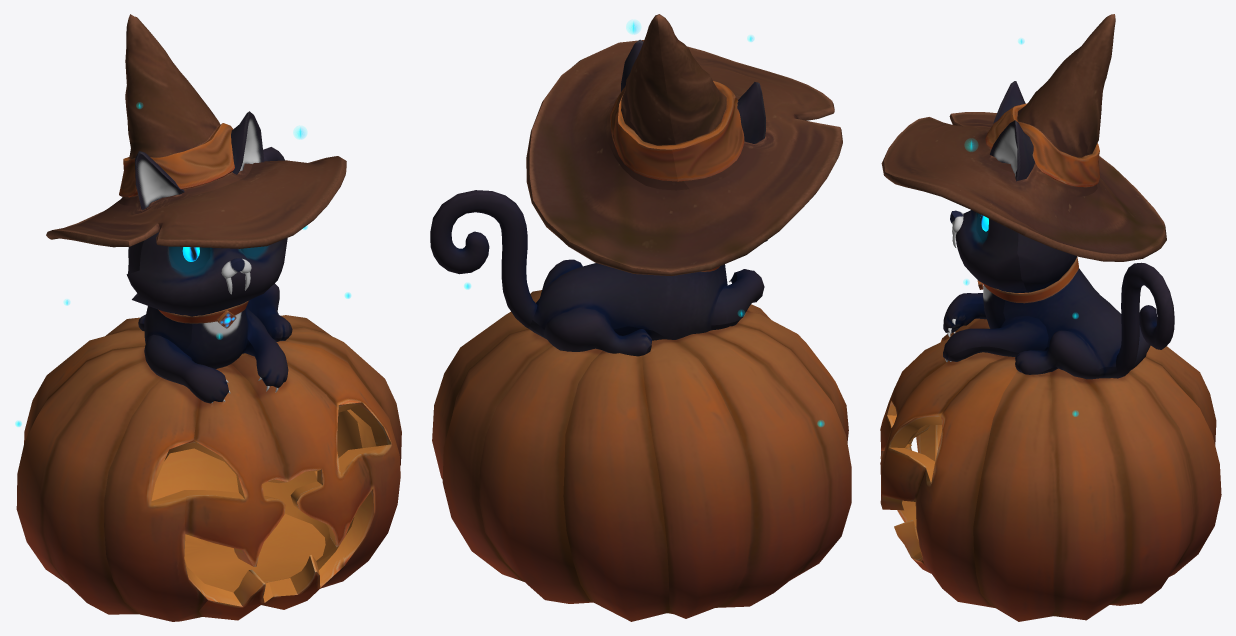
The model's file is the_halloween_cat-transformed.glb.
3 views of the same model, side by side, from view 1: azimuth 30°, elevation 25°; view 2: azimuth 150°, elevation 25°; view 3: azimuth 270°, elevation 25° (orthographic). The views are drawn at different scales.
Parts seen in each view (by area): view 1: Object_2; view 2: Object_2; view 3: Object_2.
Boxes of the visible parts, <box> form: Object_2: <box>16,14,401,621</box>; Object_2: <box>430,14,851,621</box>; Object_2: <box>880,14,1221,621</box>.
Bounding box in the file's own units: 297 × 447 × 255.
2 materials, 2 textured.
